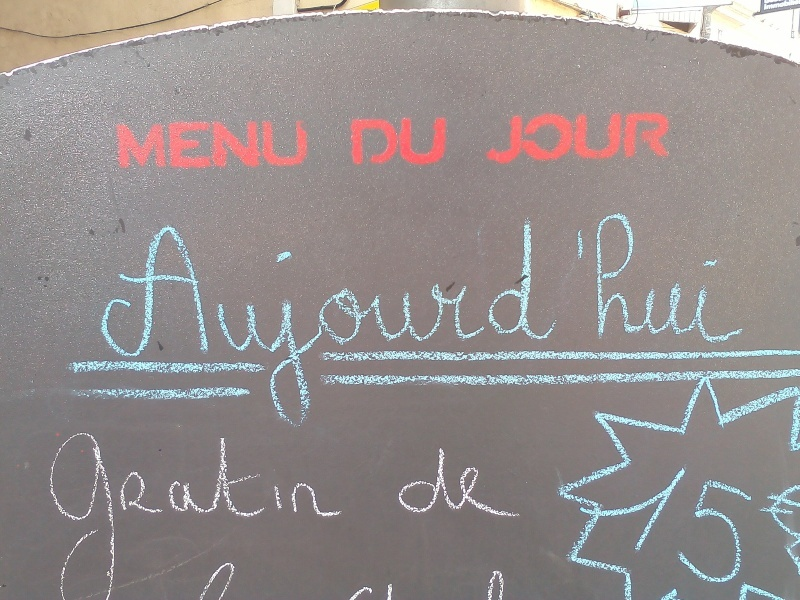text: (97, 206, 112, 438), (113, 206, 128, 438), (129, 206, 144, 438), (145, 206, 160, 438), (161, 206, 176, 438), (177, 206, 192, 438), (193, 206, 208, 438), (209, 206, 224, 438), (225, 206, 240, 438), (241, 206, 256, 438), (257, 206, 272, 438), (273, 206, 288, 438), (289, 206, 304, 438), (305, 206, 320, 438), (321, 206, 336, 438), (337, 206, 352, 438), (353, 206, 368, 438), (369, 206, 384, 438), (385, 206, 400, 438), (401, 206, 416, 438), (417, 206, 432, 438), (433, 206, 448, 438), (449, 206, 464, 438), (465, 206, 480, 438), (481, 206, 496, 438), (497, 206, 512, 438), (513, 206, 528, 438), (529, 206, 544, 438), (545, 206, 560, 438), (561, 206, 576, 438), (577, 206, 592, 438), (593, 206, 608, 438), (609, 206, 624, 438), (625, 206, 640, 438), (641, 206, 656, 438), (657, 206, 672, 438), (673, 206, 688, 438), (689, 206, 704, 438), (705, 206, 720, 438), (721, 206, 736, 438), (49, 426, 64, 600), (65, 426, 80, 600), (81, 426, 96, 600), (97, 426, 112, 600), (113, 426, 128, 600), (129, 426, 144, 600), (145, 426, 160, 600), (161, 426, 176, 600), (177, 426, 192, 600), (193, 426, 208, 600), (209, 426, 224, 600), (225, 426, 240, 600), (241, 426, 256, 600), (257, 426, 272, 600), (273, 426, 288, 600), (289, 426, 304, 600), (305, 426, 320, 600), (321, 426, 336, 600), (737, 206, 747, 438), (337, 426, 349, 600), (593, 458, 608, 586), (609, 458, 624, 586), (625, 458, 640, 586), (641, 458, 656, 586), (657, 458, 672, 586), (673, 458, 688, 586), (689, 458, 704, 586), (705, 458, 720, 586), (721, 458, 736, 586), (737, 458, 752, 586), (753, 458, 768, 586), (581, 458, 592, 586), (401, 443, 416, 521), (417, 443, 432, 521), (433, 443, 448, 521), (449, 443, 464, 521), (465, 443, 480, 521), (481, 443, 496, 521), (497, 443, 512, 521), (769, 458, 778, 586), (769, 474, 784, 540), (785, 474, 800, 540), (497, 111, 512, 167), (513, 111, 528, 167), (529, 111, 544, 167), (545, 111, 560, 167), (561, 111, 576, 167), (577, 111, 592, 167), (593, 111, 608, 167), (609, 111, 624, 167), (625, 111, 640, 167), (641, 111, 656, 167), (657, 111, 672, 167), (129, 117, 144, 170), (145, 117, 160, 170), (161, 117, 176, 170), (177, 117, 192, 170), (193, 117, 208, 170), (209, 117, 224, 170), (225, 117, 240, 170), (241, 117, 256, 170), (257, 117, 272, 170), (273, 117, 288, 170), (289, 117, 304, 170), (353, 115, 368, 167), (369, 115, 384, 167), (385, 115, 400, 167), (401, 115, 416, 167), (417, 115, 432, 167), (433, 115, 448, 167), (513, 443, 522, 521), (115, 117, 128, 170), (485, 111, 496, 167), (353, 560, 368, 600), (369, 560, 384, 600), (385, 560, 400, 600), (401, 560, 416, 600), (417, 560, 432, 600), (433, 560, 448, 600), (449, 560, 464, 600), (465, 560, 480, 600), (481, 560, 496, 600), (760, 474, 768, 540), (94, 206, 96, 438), (497, 560, 507, 600), (395, 443, 400, 521), (46, 426, 48, 600), (305, 117, 310, 170), (673, 111, 675, 167), (350, 560, 352, 600), (351, 115, 352, 167)
